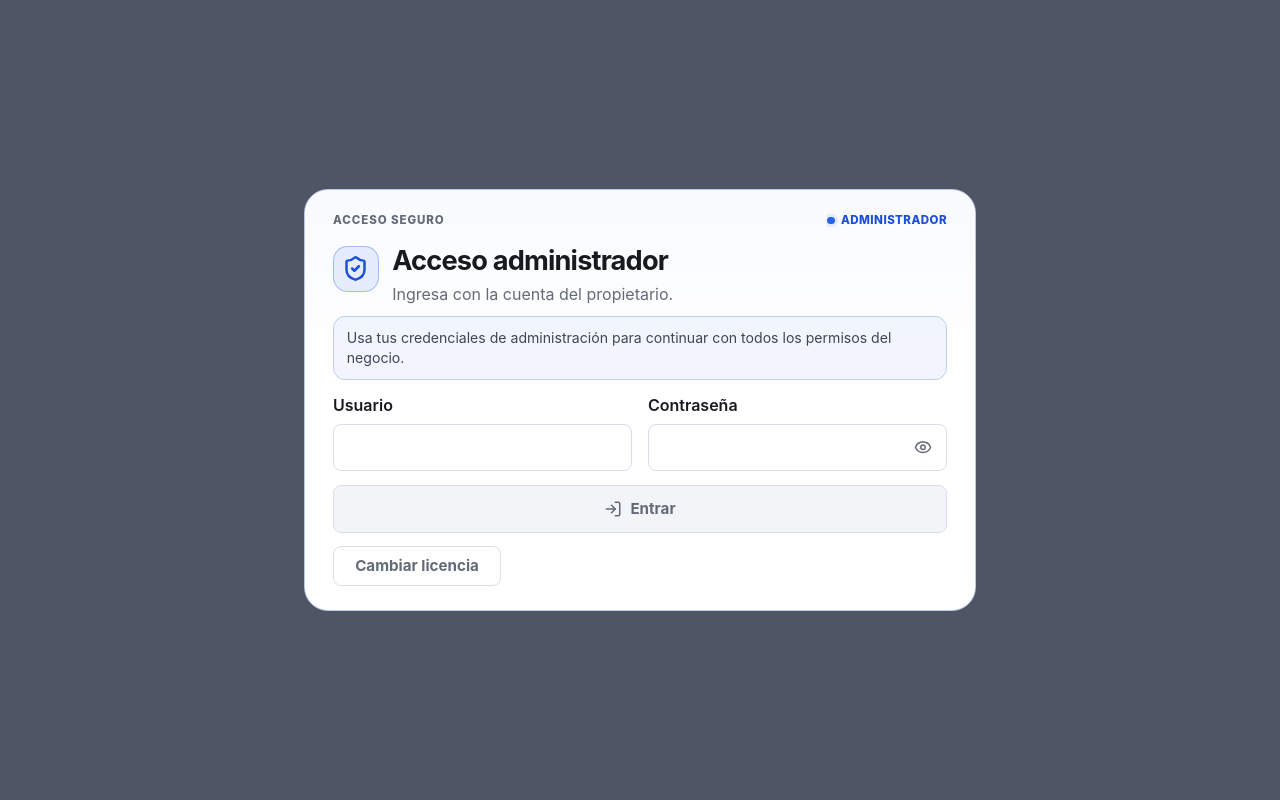
Test case: Admin preparation recovery UI › shows safe specific copy for {"code":"ADMIN_LOGIN_ERROR","message":"Failed to fetch"}
The image size is (1280, 800).
Type "owner" into the field labelled "Usuario" at (482, 448), box [333,424,632,471]
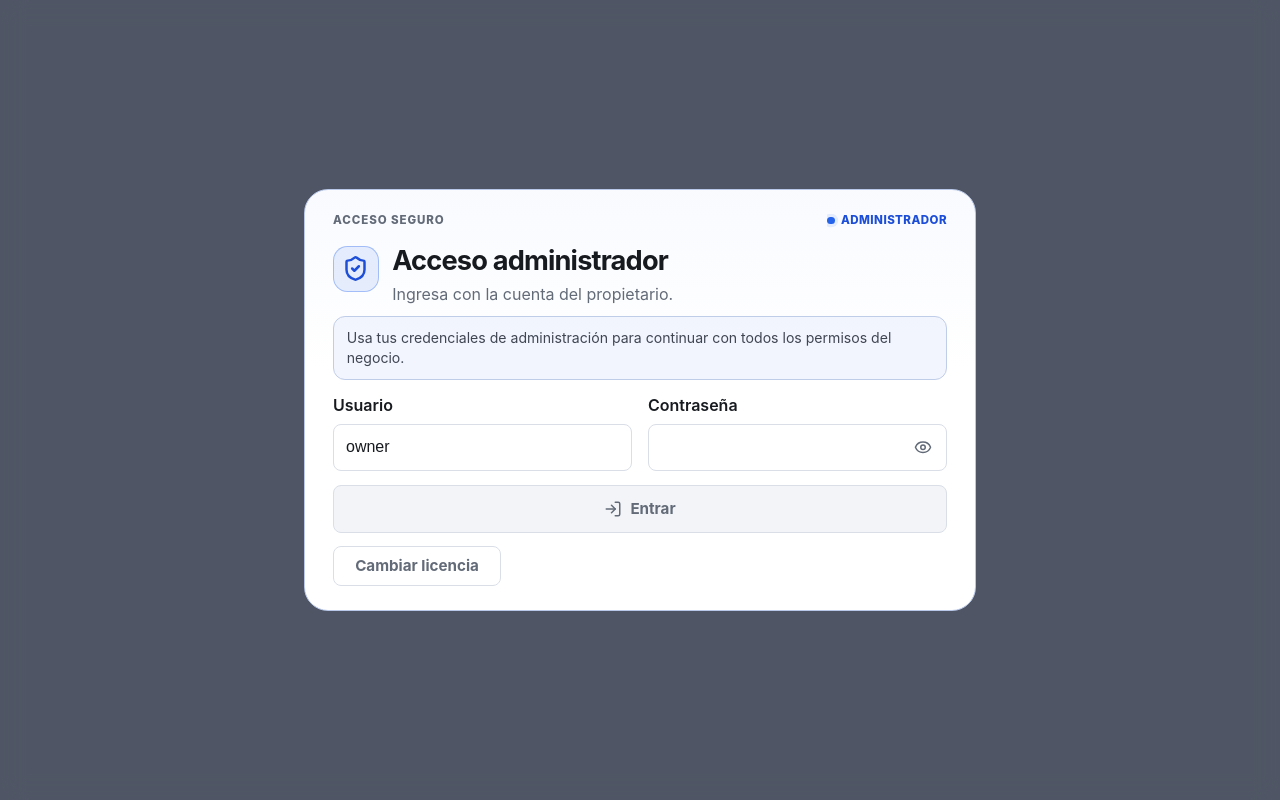
Type "fixture-only" into the password field labelled "Contraseña" at (798, 448), box [648,424,947,471]
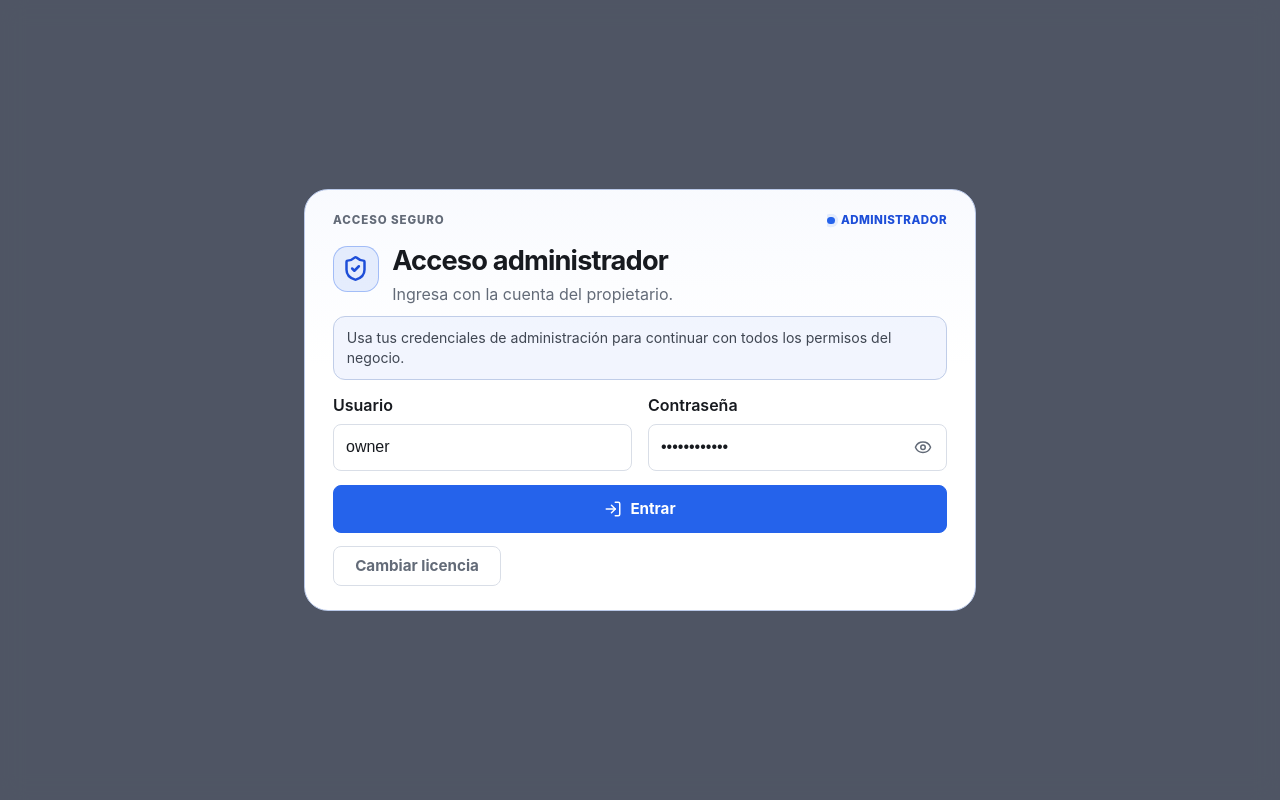
Click the button "Entrar" at (640, 509), box [333,485,947,533]
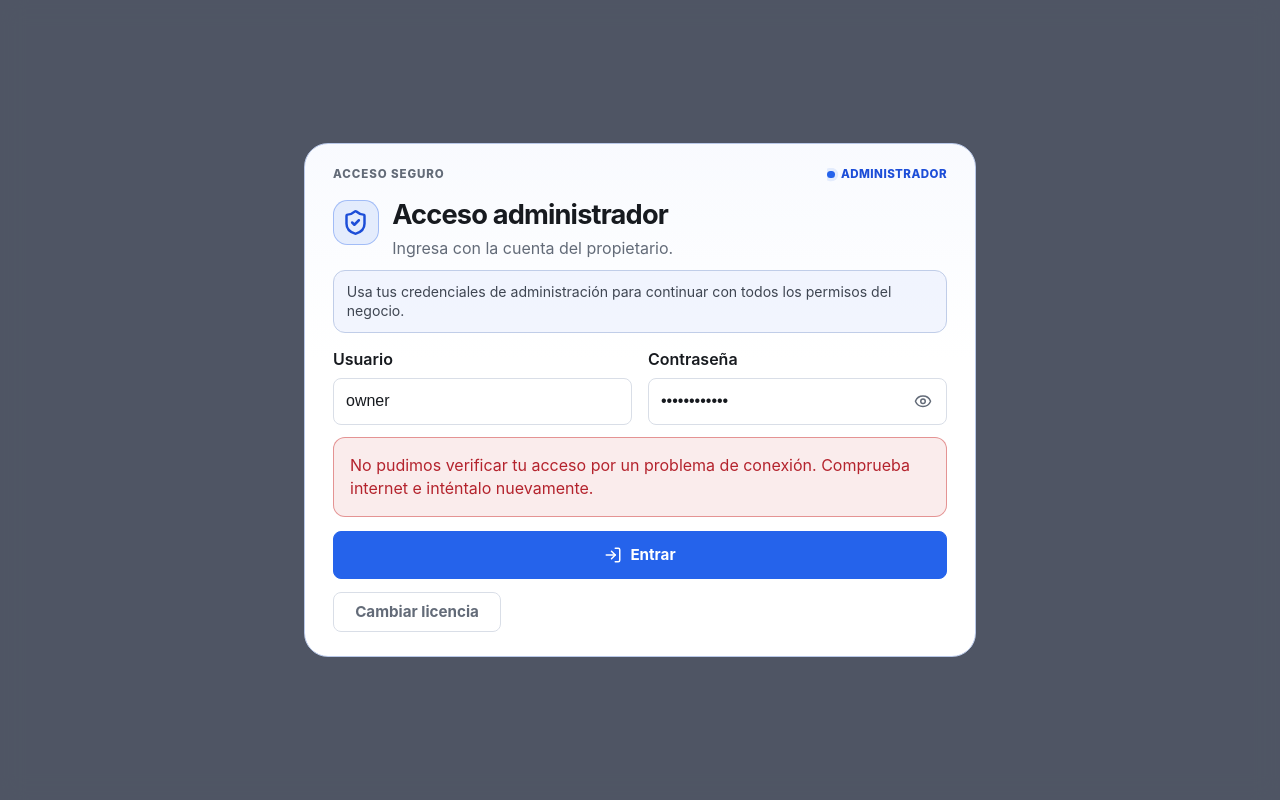
expect the message shows "problema de conexión": met, box [350,454,910,498]
